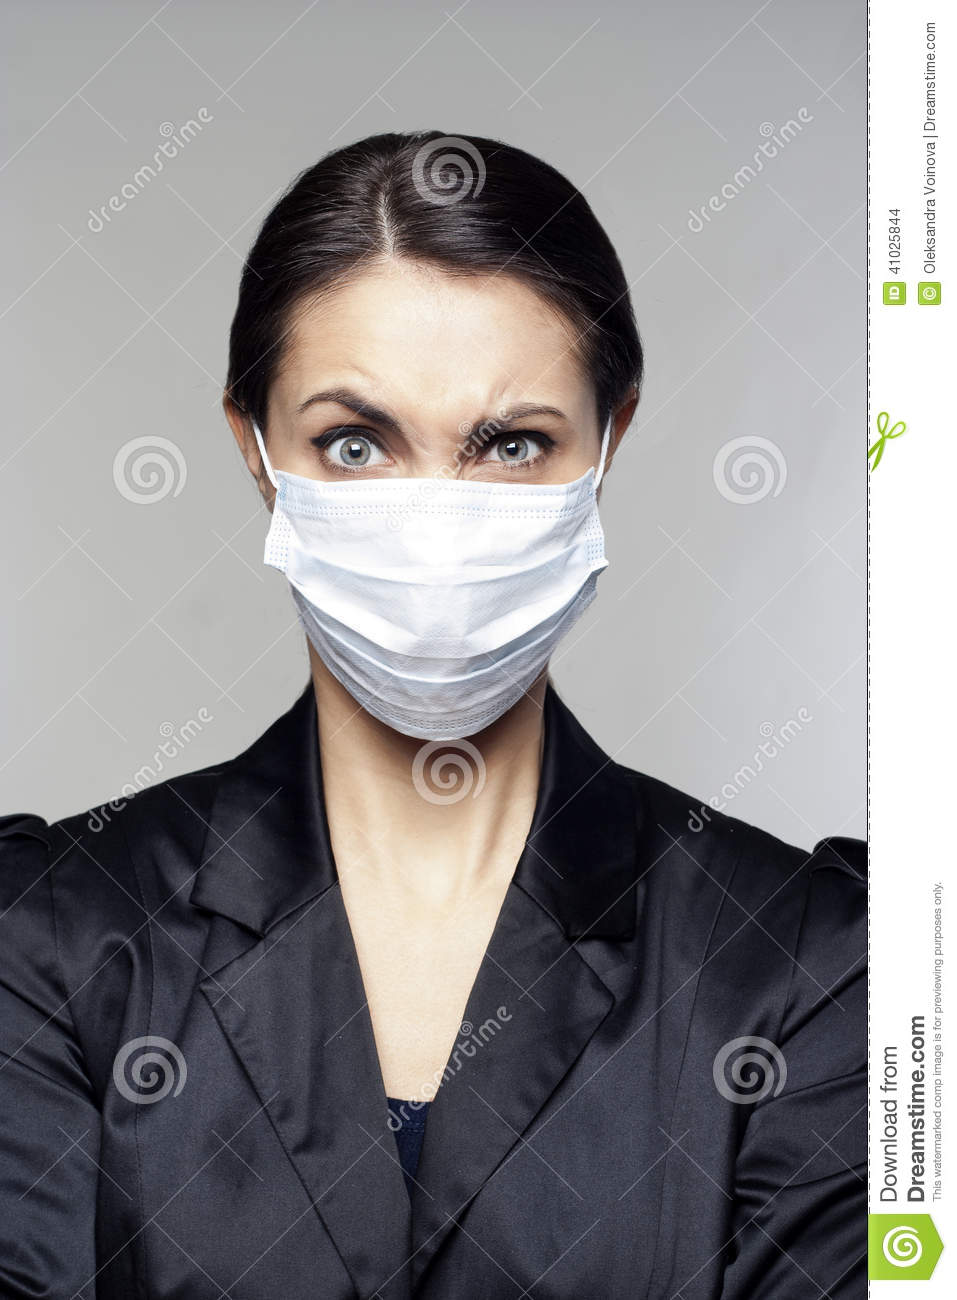mask: (267, 466, 613, 752)
